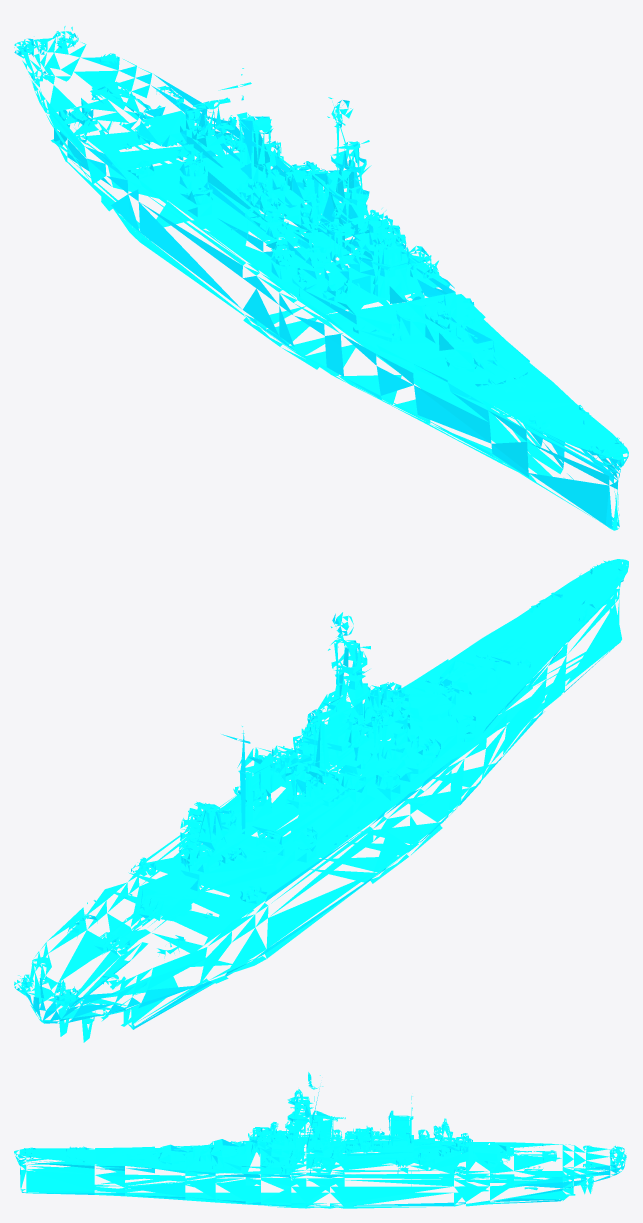
Rendered from Georgia.glb.
The picture shows the model from 3 angles, top to bottom: view 1: azimuth 30°, elevation 25°; view 2: azimuth 150°, elevation 25°; view 3: azimuth 270°, elevation 25°; orthographic projection. The views are drawn at different scales.
Bounding box in the file's own units: 2.24 × 3.74 × 17.21.
